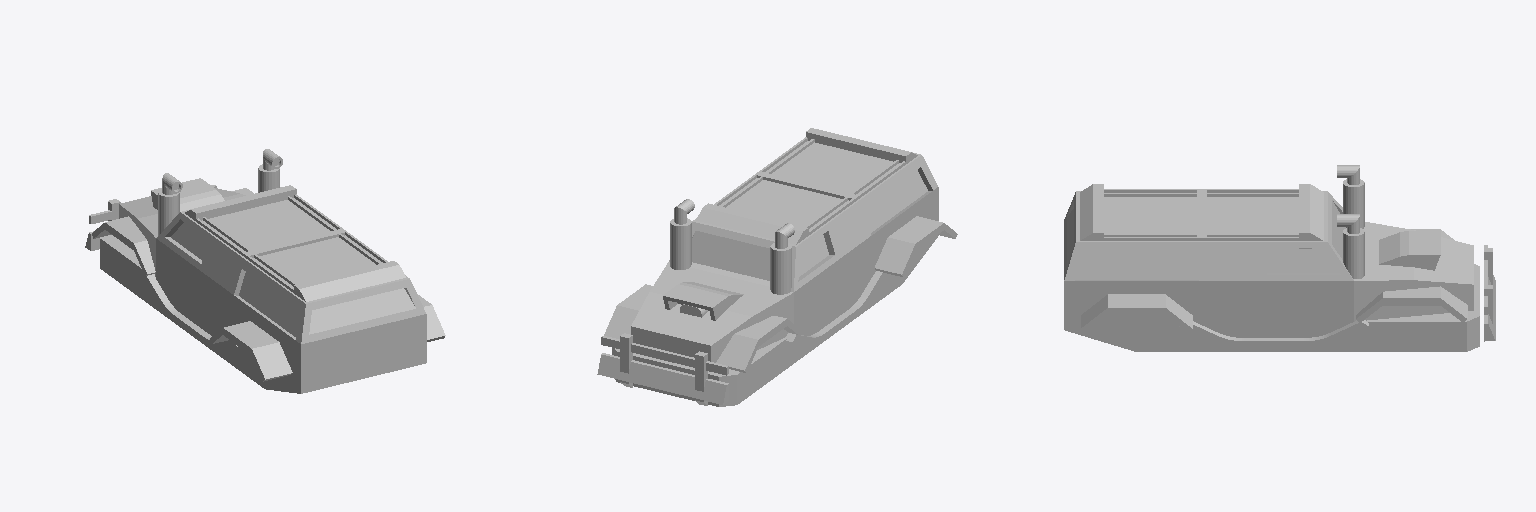
Rendered from Monster Truck.obj.
3 views of the same model, side by side, from view 1: azimuth 30°, elevation 25°; view 2: azimuth 150°, elevation 25°; view 3: azimuth 270°, elevation 25° (orthographic).
Parts seen in each view (by area): view 1: Car05; view 2: Car05; view 3: Car05.
Part boxes in pixels (x1,y1,x2,y2): Car05: (85, 149, 445, 393); Car05: (597, 128, 957, 406); Car05: (1064, 165, 1495, 351).
Bounding box in the file's own units: 1.44 × 1 × 2.98.